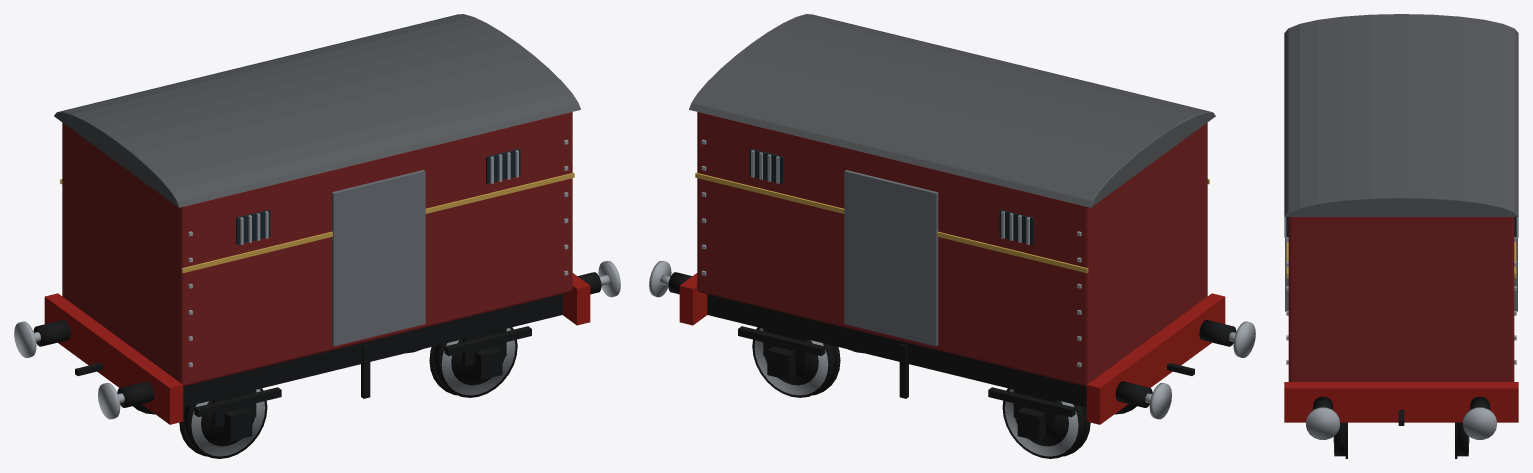
Rendered from armoured_van.glb.
The picture shows the model from 3 angles, left to right: view 1: azimuth 30°, elevation 25°; view 2: azimuth 150°, elevation 25°; view 3: azimuth 270°, elevation 25°; orthographic projection. The views are drawn at different scales.
Parts seen in each view (by area): view 1: corpo, teto, porta_blindada.001, longarina.001, viga.001, friso_ouro.001, roda_face-1, roda_face-1.001, viga, mola.003, mola.001, mancal.003 (+11 smaller); view 2: corpo, teto, porta_blindada, longarina, viga.001, friso_ouro, roda_face1, roda_face1.001, viga, mola.002, mola, mancal.002 (+11 smaller); view 3: teto, corpo, viga, buffer_cabeca, buffer_cabeca.001, roda_roda1, roda_roda-1.
Boxes of the visible parts, x1=… form: corpo: x1=62, y1=112, x2=572, y2=386; teto: x1=54, y1=14, x2=580, y2=207; porta_blindada.001: x1=331, y1=170, x2=425, y2=346; longarina.001: x1=183, y1=294, x2=562, y2=407; viga.001: x1=44, y1=293, x2=183, y2=424; friso_ouro.001: x1=181, y1=172, x2=574, y2=273; roda_face-1: x1=441, y1=328, x2=515, y2=395; roda_face-1.001: x1=191, y1=389, x2=265, y2=456; viga: x1=562, y1=273, x2=590, y2=325; mola.003: x1=194, y1=387, x2=281, y2=417; mola.001: x1=444, y1=326, x2=531, y2=356; mancal.003: x1=224, y1=407, x2=252, y2=441; corpo: x1=697, y1=112, x2=1207, y2=386; teto: x1=689, y1=14, x2=1215, y2=207; porta_blindada: x1=844, y1=170, x2=938, y2=346; longarina: x1=707, y1=294, x2=1086, y2=407; viga.001: x1=1086, y1=293, x2=1225, y2=424; friso_ouro: x1=695, y1=172, x2=1088, y2=273; roda_face1: x1=754, y1=328, x2=828, y2=395; roda_face1.001: x1=1004, y1=389, x2=1078, y2=456; viga: x1=679, y1=273, x2=707, y2=325; mola.002: x1=988, y1=387, x2=1075, y2=417; mola: x1=738, y1=326, x2=825, y2=356; mancal.002: x1=1017, y1=407, x2=1045, y2=441; teto: x1=1284, y1=14, x2=1518, y2=216; corpo: x1=1288, y1=217, x2=1514, y2=381; viga: x1=1284, y1=382, x2=1518, y2=422; buffer_cabeca: x1=1463, y1=407, x2=1496, y2=439; buffer_cabeca.001: x1=1306, y1=407, x2=1339, y2=439; roda_roda1: x1=1457, y1=422, x2=1468, y2=456; roda_roda-1: x1=1334, y1=422, x2=1345, y2=456.
Bounding box in the file's own units: 6.05 × 3.57 × 2.6.
